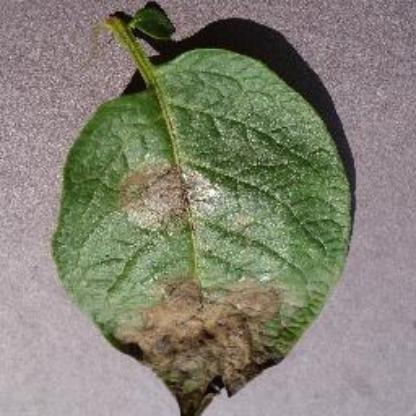Late-Blight: (50, 17, 370, 416)
